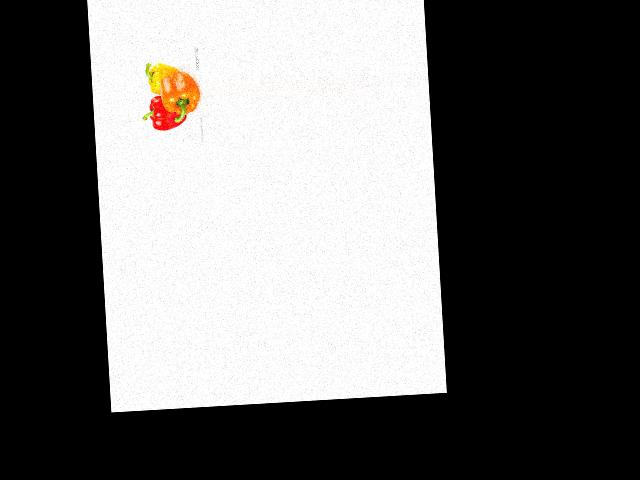bell_pepper: (142, 59, 181, 96)
